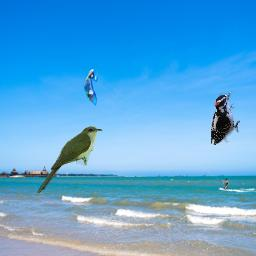Cuckoo: (37, 126, 103, 194)
Woodpecker: (211, 91, 240, 145)
